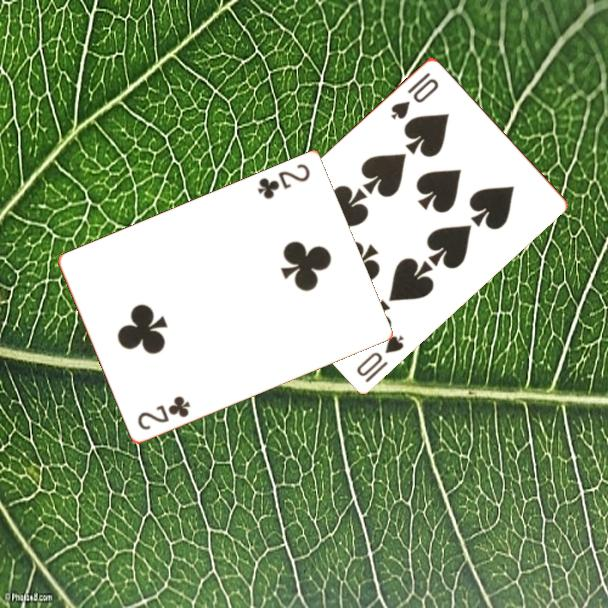c02: (254, 161, 313, 203), (134, 393, 193, 434)
s10: (387, 68, 442, 122), (353, 331, 407, 385)
